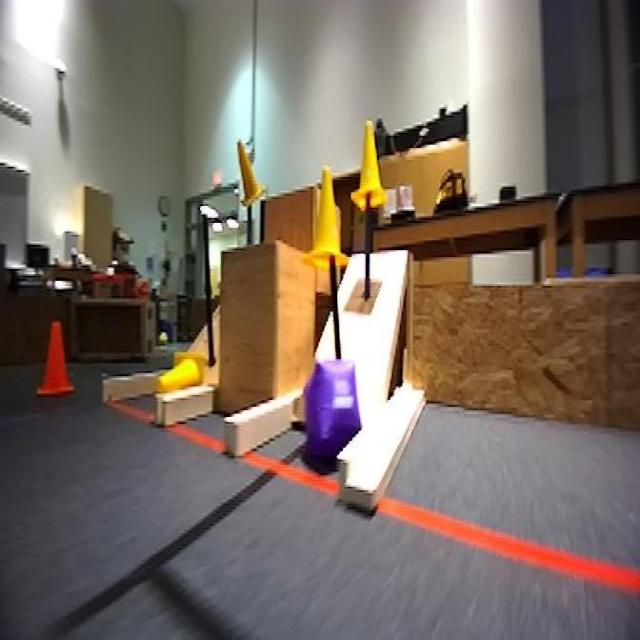frc_cone: (309, 165, 346, 264), (156, 342, 208, 398), (356, 129, 391, 211), (235, 140, 264, 211)
frc_cube: (292, 364, 349, 453)
